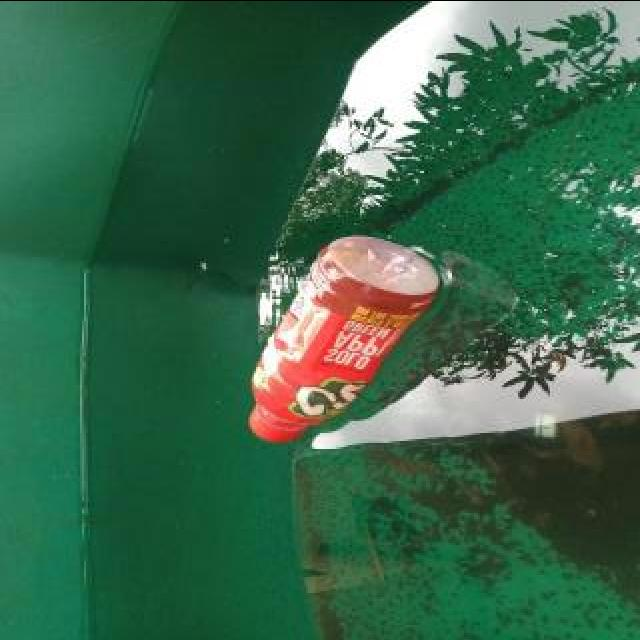Bottle: (234, 224, 448, 452)
